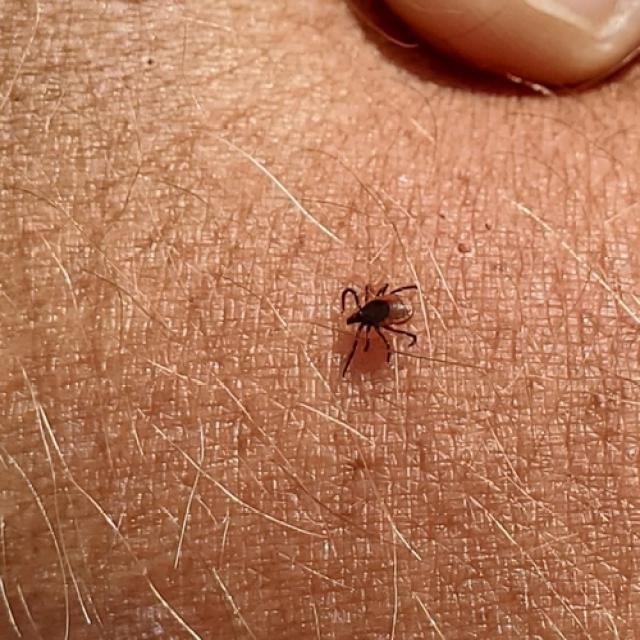Ixodes Ricinus-F: (334, 283, 422, 378)
